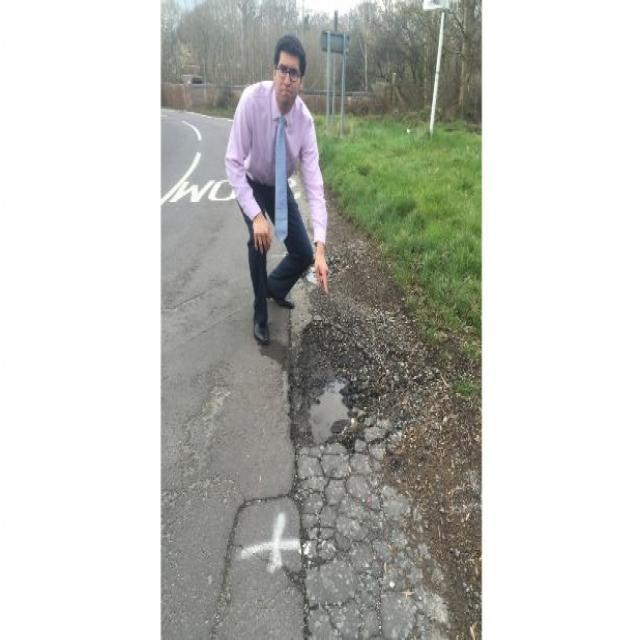pothole: (288, 312, 374, 446)
